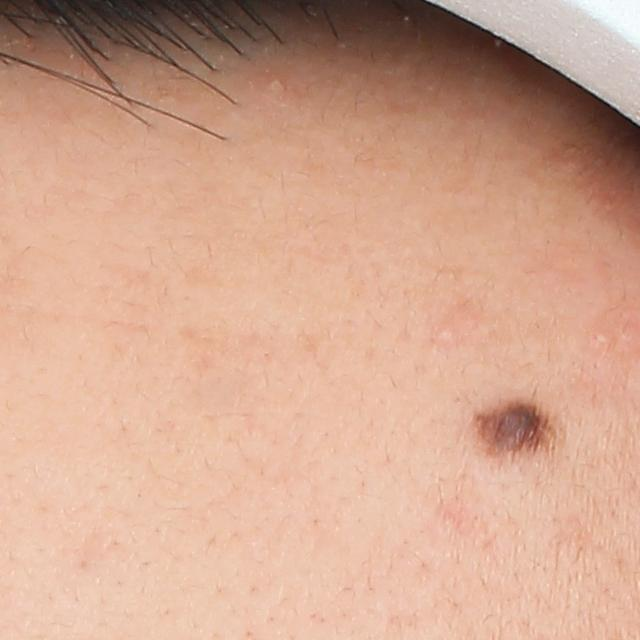comedo: (431, 323, 459, 347), (586, 327, 616, 349)
nevus: (472, 401, 565, 464)
